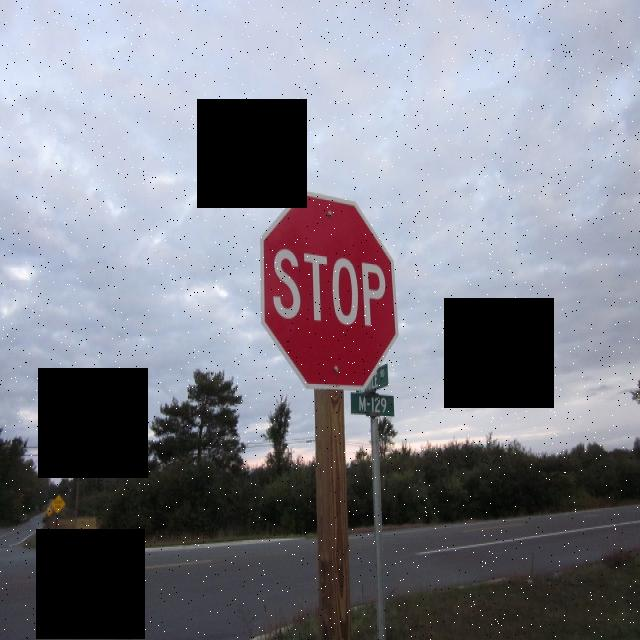stop: (258, 190, 400, 397)
